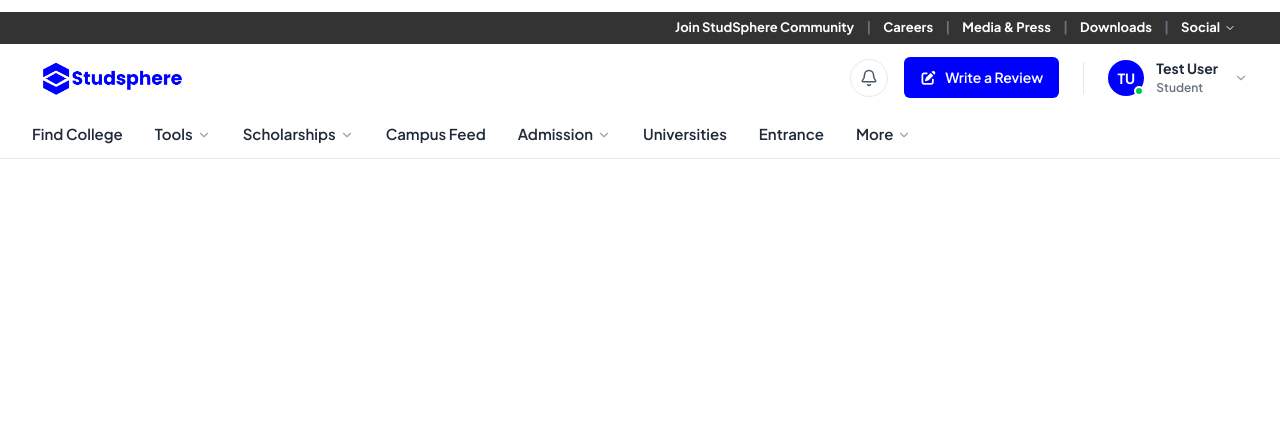
it: EducationNavbar notification bell › zero server notifications renders the empty state, never the mocks
Click the button named "Notifications": click(869, 78) [850,58,888,96]
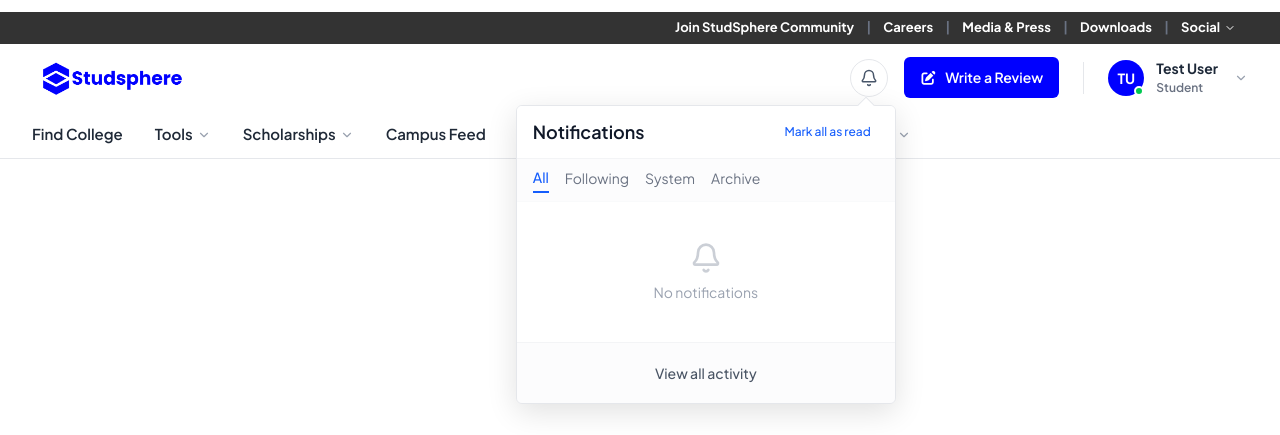
Now the text "No notifications" is shown, box [653,282,758,302]
